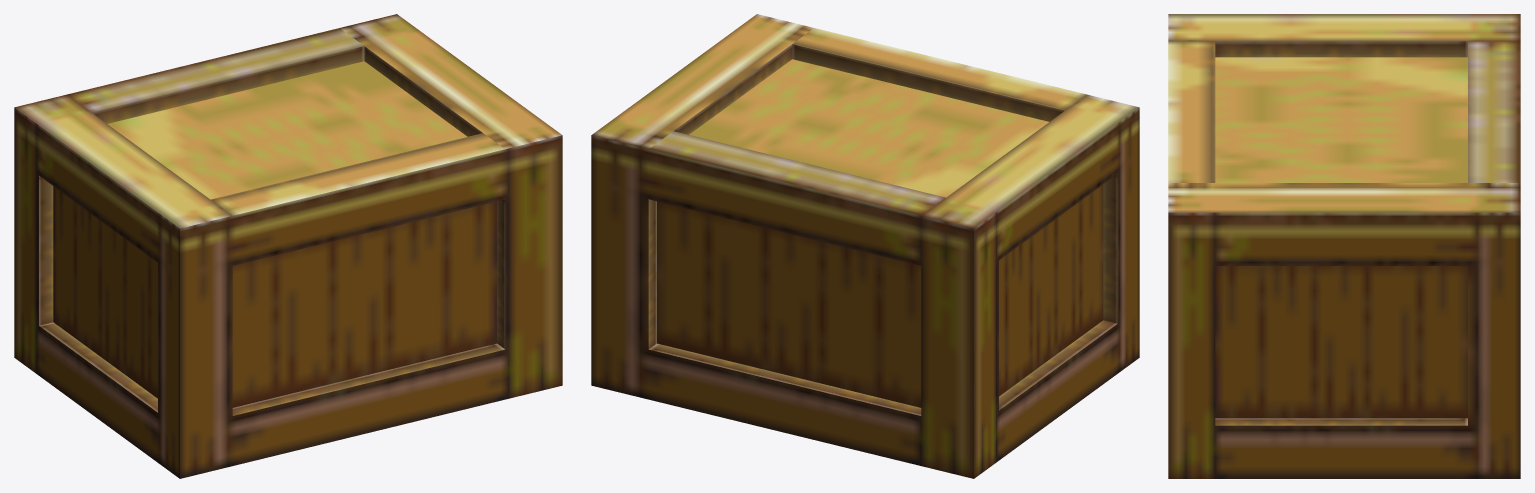
The model's file is Poly_SF_Outside_B_Crate_01.obj.
3 views of the same model, side by side, from view 1: azimuth 30°, elevation 25°; view 2: azimuth 150°, elevation 25°; view 3: azimuth 270°, elevation 25° (orthographic). The views are drawn at different scales.
Parts seen in each view (by area): view 1: Cube.001; view 2: Cube.001; view 3: Cube.001.
Boxes of the visible parts, x1,y1,x2,y2 form: Cube.001: (14,14,562,478); Cube.001: (591,14,1139,478); Cube.001: (1168,14,1520,478).
Bounding box in the file's own units: 0.8 × 0.5 × 0.6.
Materials: 1 (1 with a texture image).
